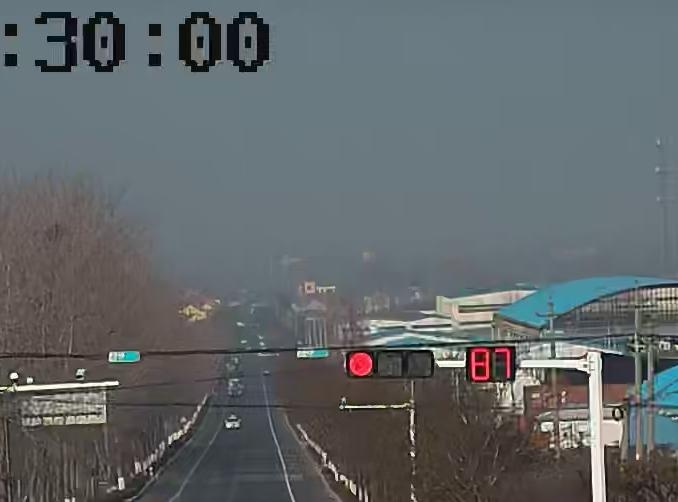red: (346, 350, 374, 377)
redtime: (467, 346, 515, 381)
